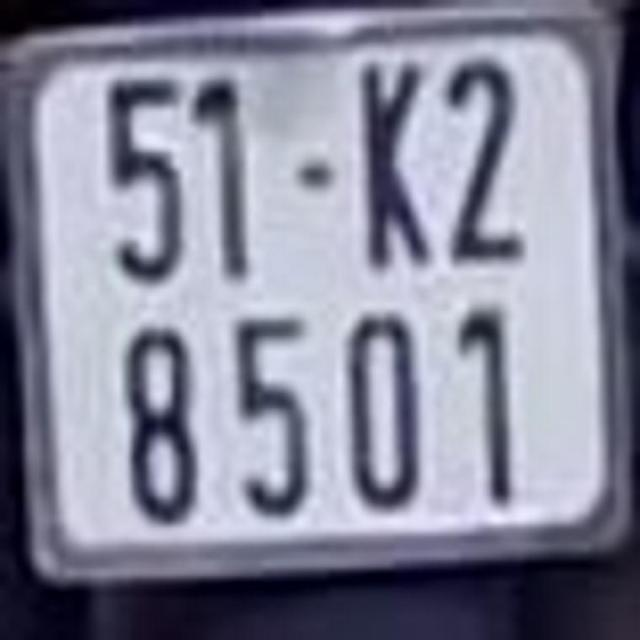0: (344, 305, 427, 514)
1: (450, 299, 529, 512), (188, 66, 264, 280)
2: (442, 51, 527, 271)
5: (100, 76, 187, 284), (232, 304, 314, 521)
8: (123, 320, 200, 527)
K: (360, 56, 433, 267)
